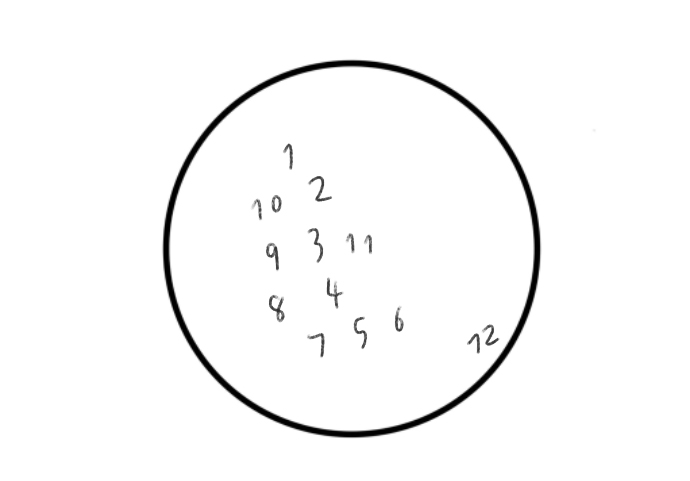eight: (266, 293, 286, 326)
eleven: (344, 228, 375, 255)
five: (352, 312, 368, 349)
four: (324, 276, 345, 312)
nine: (264, 240, 282, 272)
one: (281, 139, 298, 177)
seven: (304, 332, 325, 363)
six: (394, 306, 404, 332)
ten: (248, 193, 285, 222)
three: (307, 225, 326, 266)
twelve: (468, 324, 500, 353)
two: (307, 171, 332, 203)
